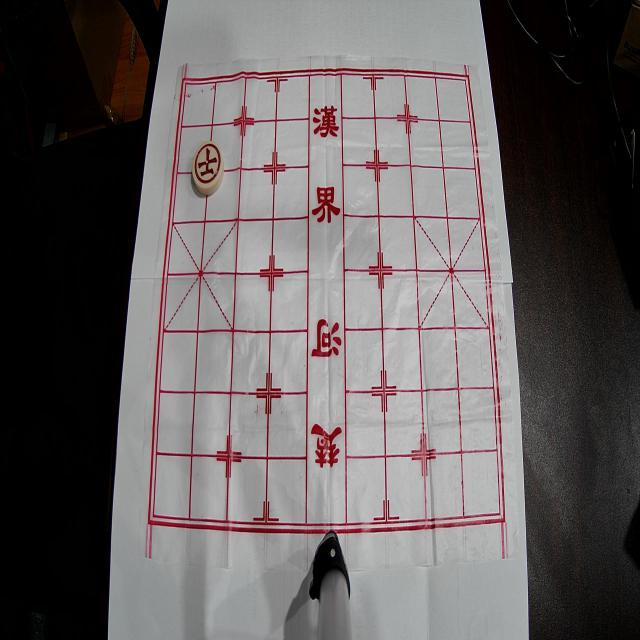red-guard: (192, 141, 224, 195)
